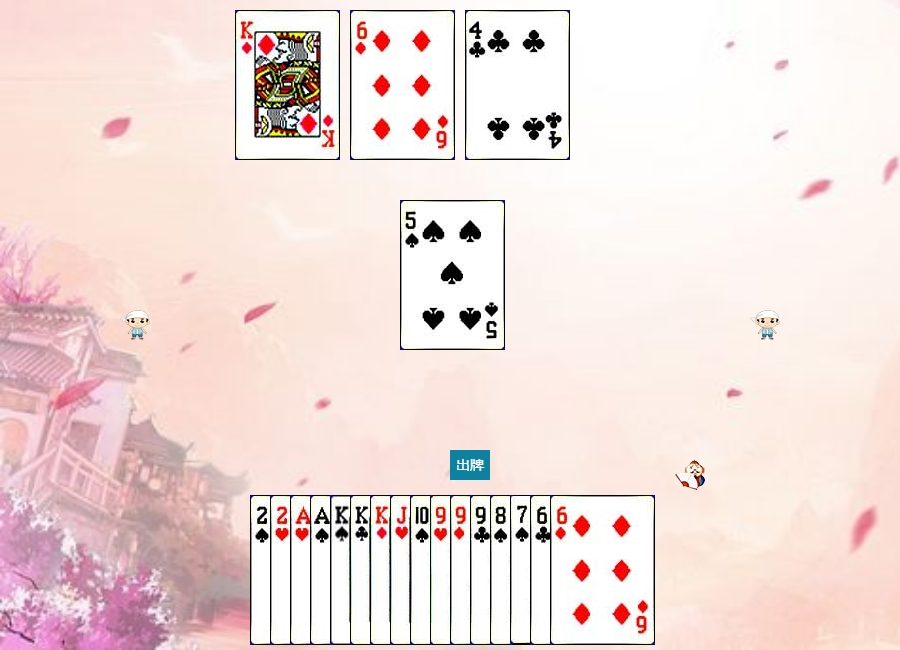10~4: (410, 495, 515, 645)
11~3: (390, 495, 495, 645)
13~1: (235, 10, 340, 160), (370, 495, 475, 645)
13~2: (350, 495, 455, 645)
13~4: (330, 495, 435, 645)
14~3: (290, 495, 395, 645)
14~4: (310, 495, 415, 645)
15~3: (270, 495, 375, 645)
15~4: (250, 495, 355, 645)
4~2: (465, 10, 570, 160)
5~4: (400, 200, 505, 350)
6~1: (350, 10, 455, 160), (550, 495, 655, 645)
6~2: (530, 495, 635, 645)
7~4: (510, 495, 615, 645)
8~4: (490, 495, 595, 645)
9~1: (450, 495, 555, 645)
9~2: (470, 495, 575, 645)
9~3: (430, 495, 535, 645)
